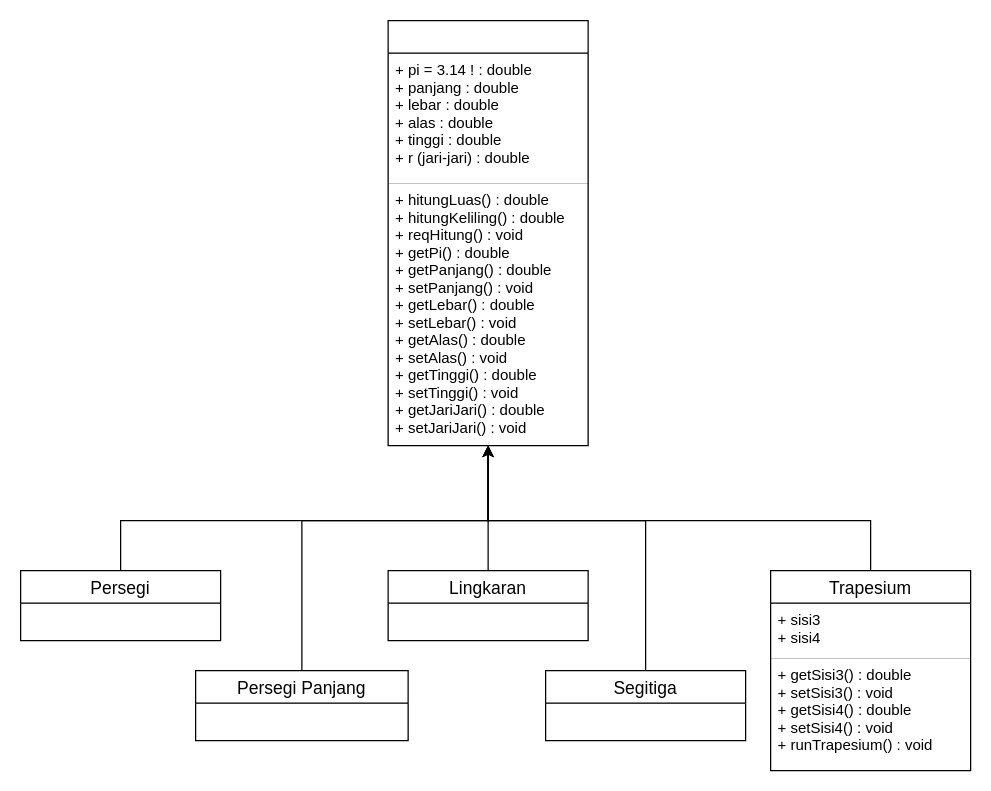
Some shapes in this 991 by 791 pixel diagram are drawn without their labels. Here are the shapes that lost their labels. From the top down, the box of each, then its label:
(387, 19, 588, 446): Bangun Datar
(20, 602, 220, 640): + runPersegi() : void
(388, 602, 588, 640): + runLingkaran() : void
(195, 702, 408, 740): + runPersegiPanjang() : void
(545, 702, 745, 740): + runSegitiga() : void
